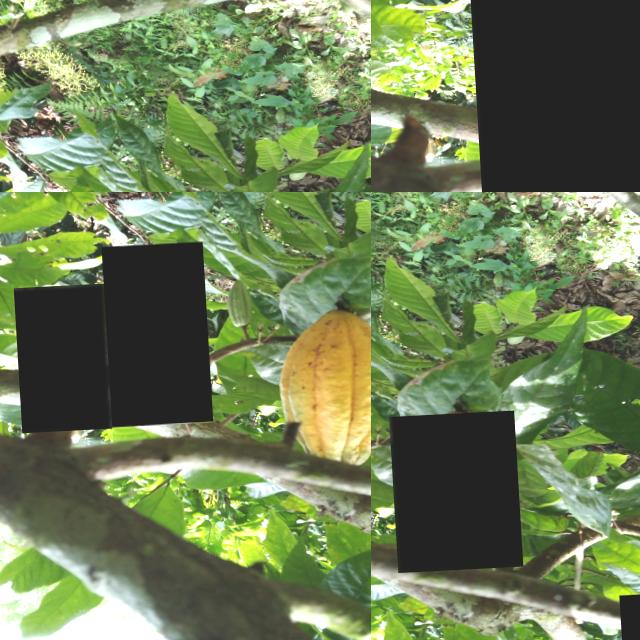Sana: (462, 0, 640, 192), (386, 416, 518, 577), (99, 245, 208, 429), (11, 286, 107, 434)
